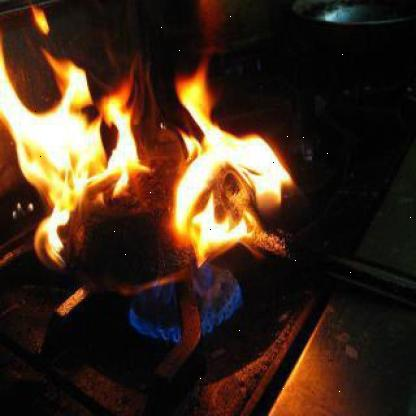fire: (0, 26, 155, 274), (154, 60, 304, 265), (125, 273, 239, 347)
